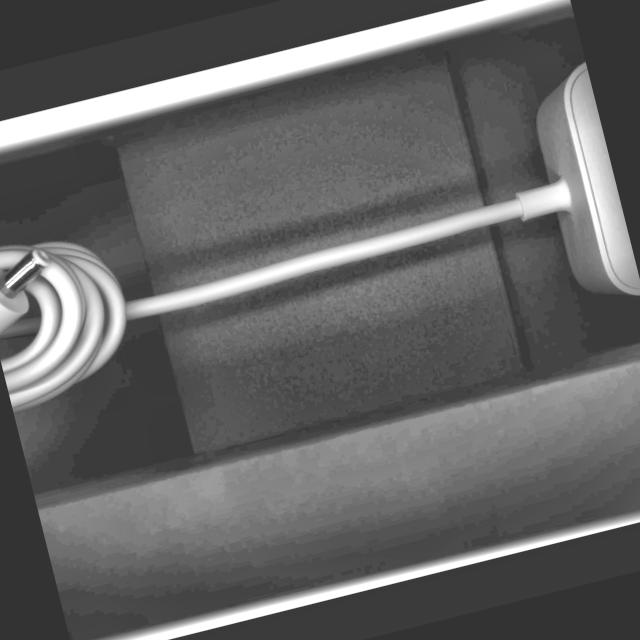Cable: (0, 57, 640, 458)
